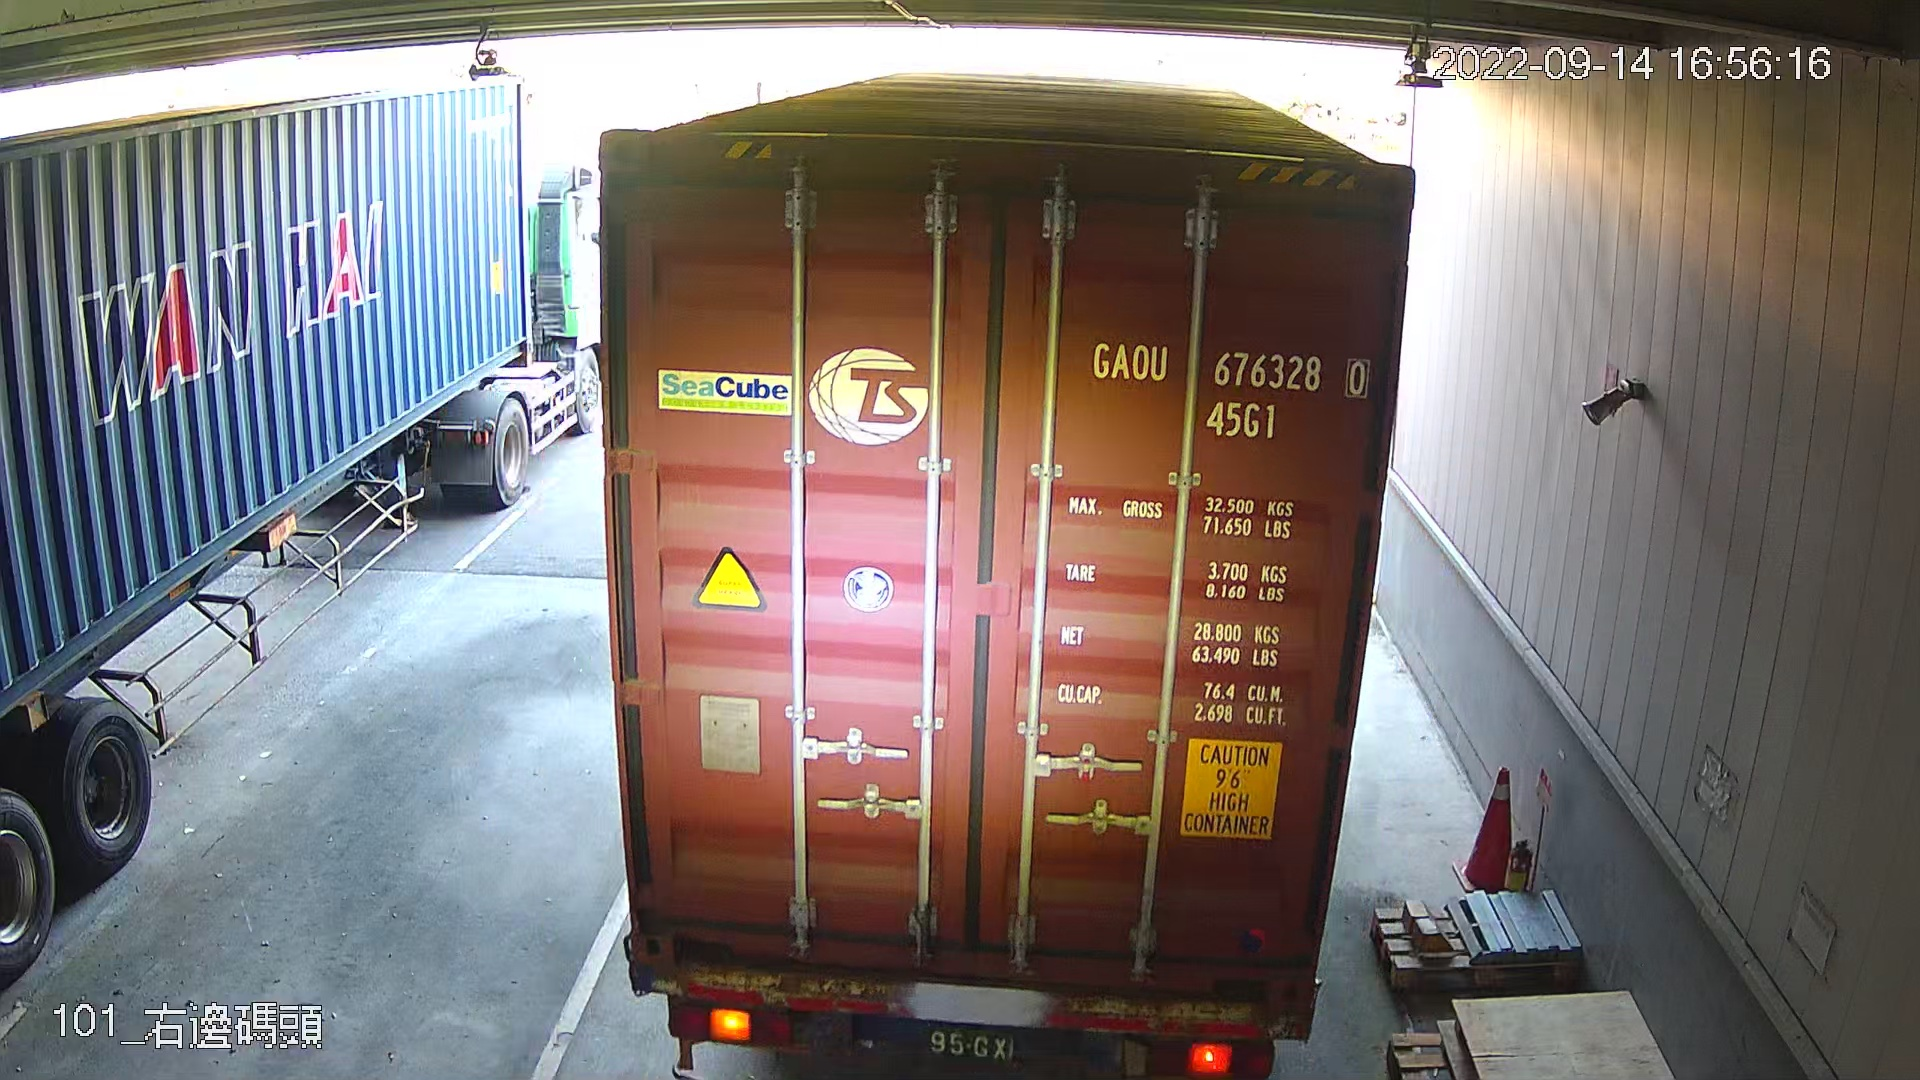container: (1084, 328, 1378, 451)
